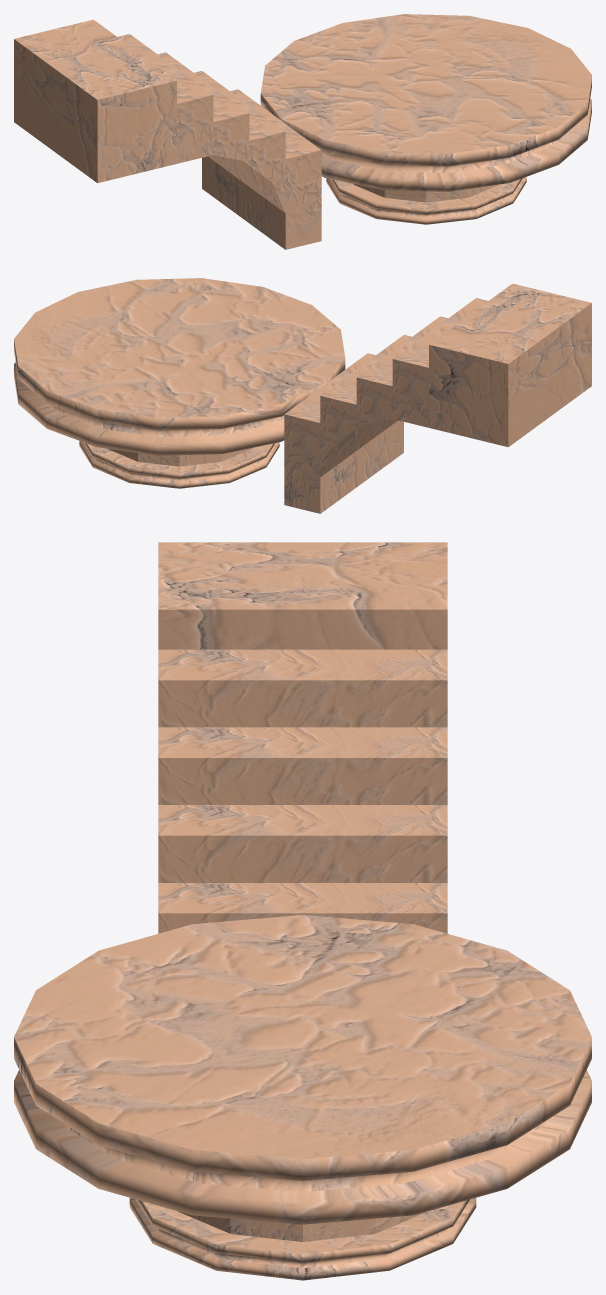
File: tp_stairs.gltf
3 views of the same model, one above another, from view 1: azimuth 30°, elevation 25°; view 2: azimuth 150°, elevation 25°; view 3: azimuth 270°, elevation 25° (orthographic). The views are drawn at different scales.
Visible parts, largest first — view 1: Top, Stairs-top, Stairs, Bottom, Mid; view 2: Top, Stairs-top, Stairs, Bottom, Mid; view 3: Top, Stairs, Stairs-top, Bottom, Mid.
Part boxes in pixels (x1,y1,x2,y2): Top: (260, 14, 591, 191); Stairs-top: (14, 19, 176, 183); Stairs: (118, 34, 321, 249); Bottom: (326, 177, 526, 224); Mid: (353, 184, 498, 202); Top: (14, 278, 345, 455); Stairs-top: (429, 283, 591, 447); Stairs: (284, 298, 487, 513); Bottom: (79, 441, 279, 488); Mid: (107, 448, 252, 466); Top: (14, 915, 591, 1224); Stairs: (158, 649, 447, 933); Stairs-top: (158, 542, 447, 649); Bottom: (129, 1198, 476, 1280); Mid: (178, 1211, 427, 1241).
Size of what is drawn, in the model's own units: 3.56 by 1.34 by 2.
Materials: 1 (1 with a texture image).
